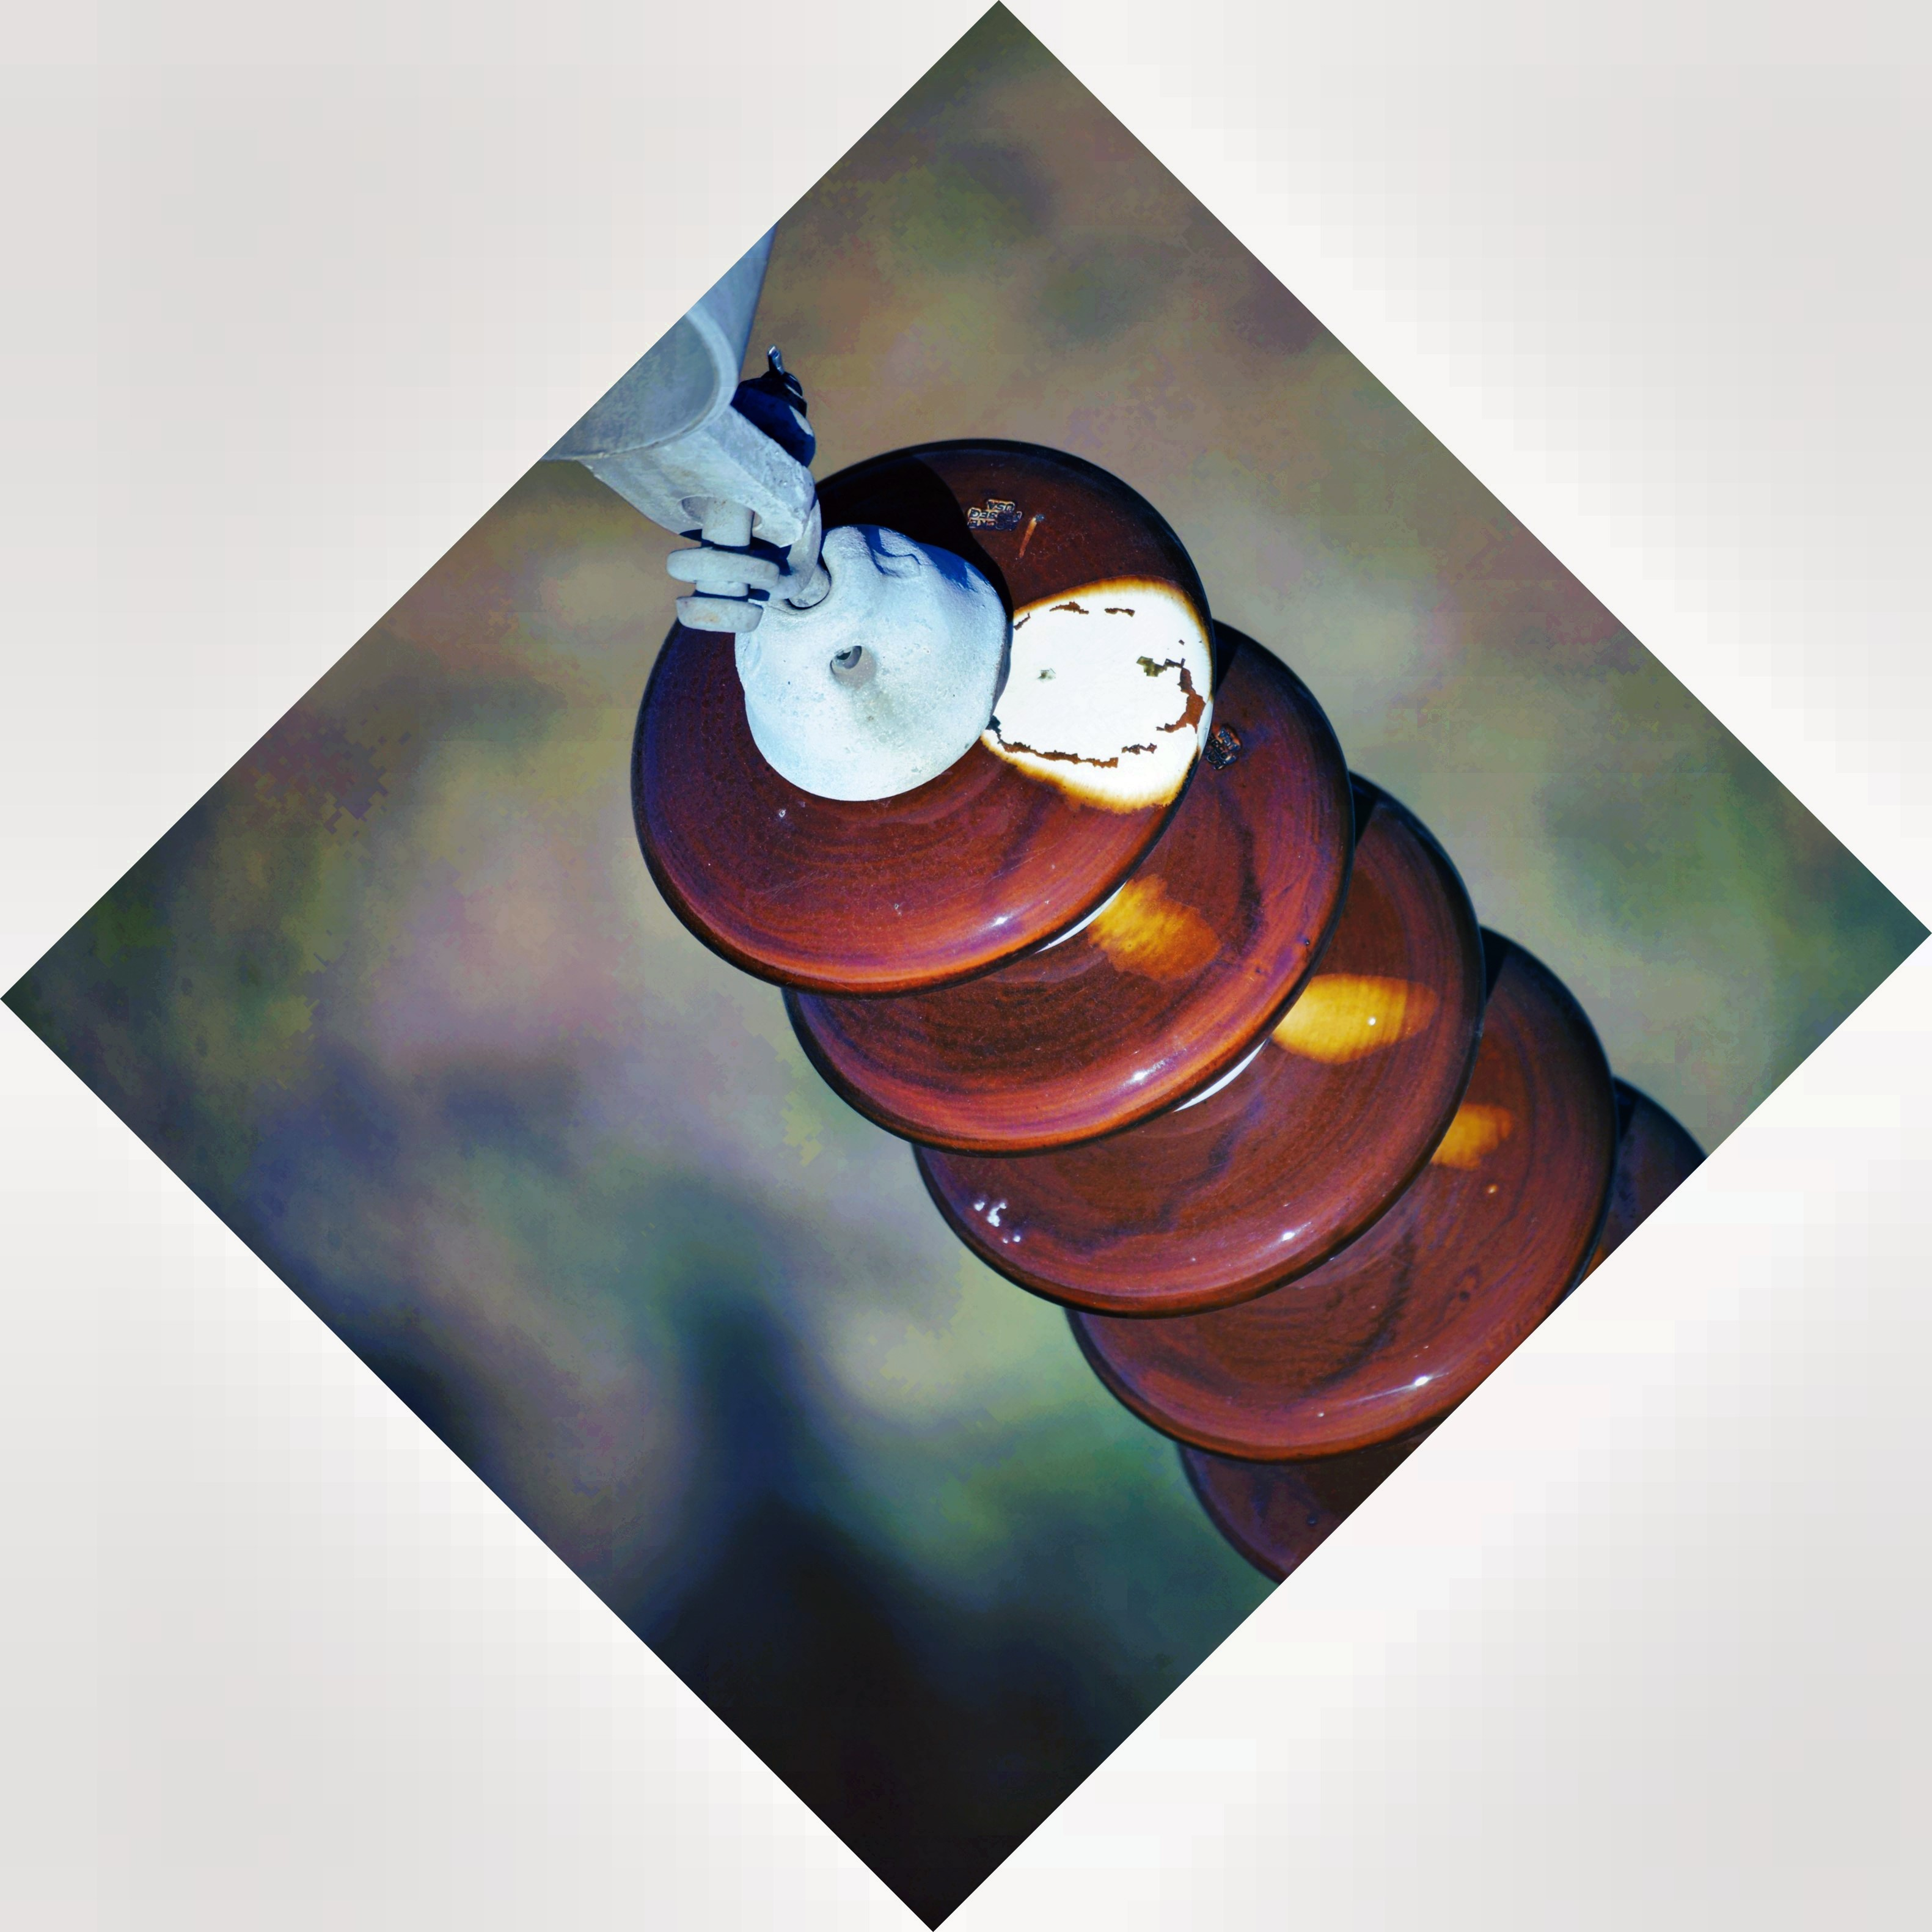Insulator flashover: (579, 409, 1256, 1016)
